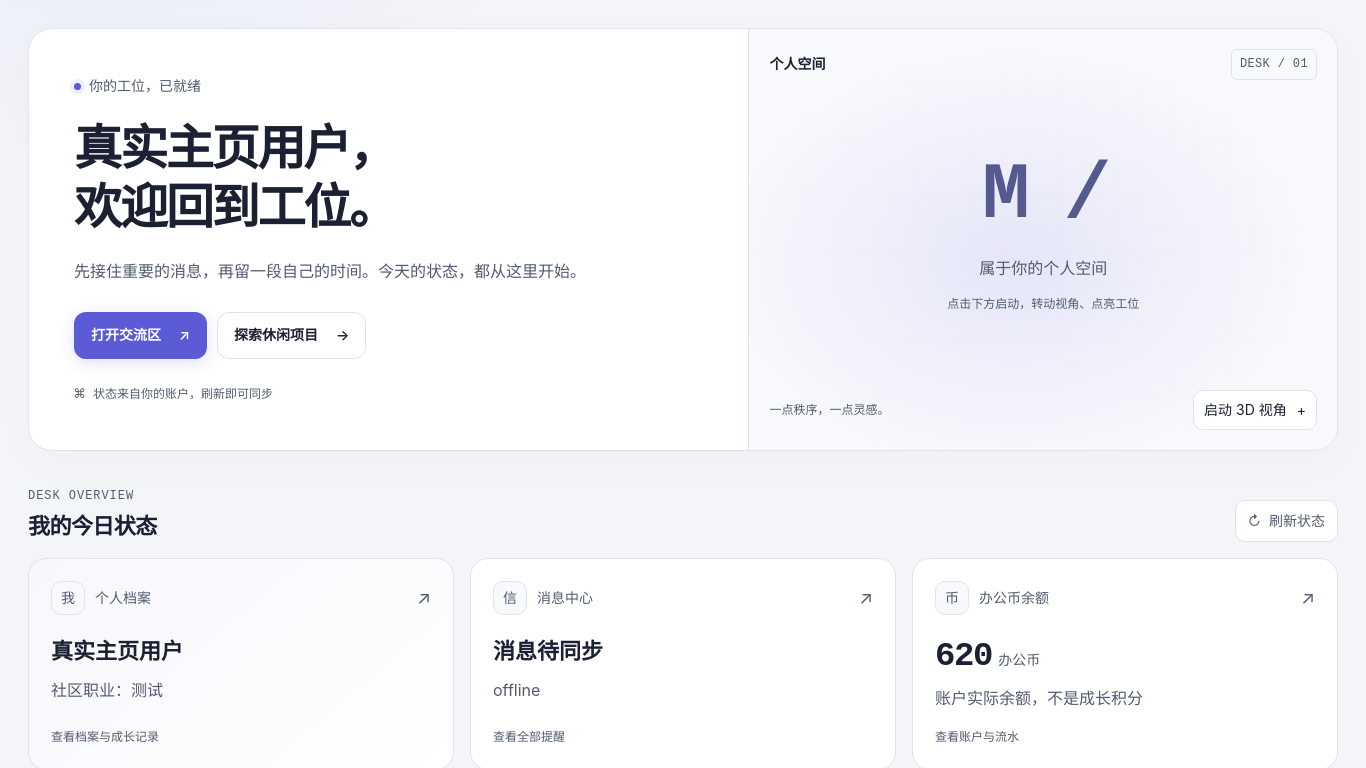
it: CommunityHomePage workspace › keeps a failed summary explicit and allows a verified refresh
Expected: the text "offline" is shown, [493,680,540,700]
Expected: the text "消息待同步" is shown, [493,638,603,664]
Click the button "↻ 刷新状态" at (1286, 521), box [1235,500,1338,542]
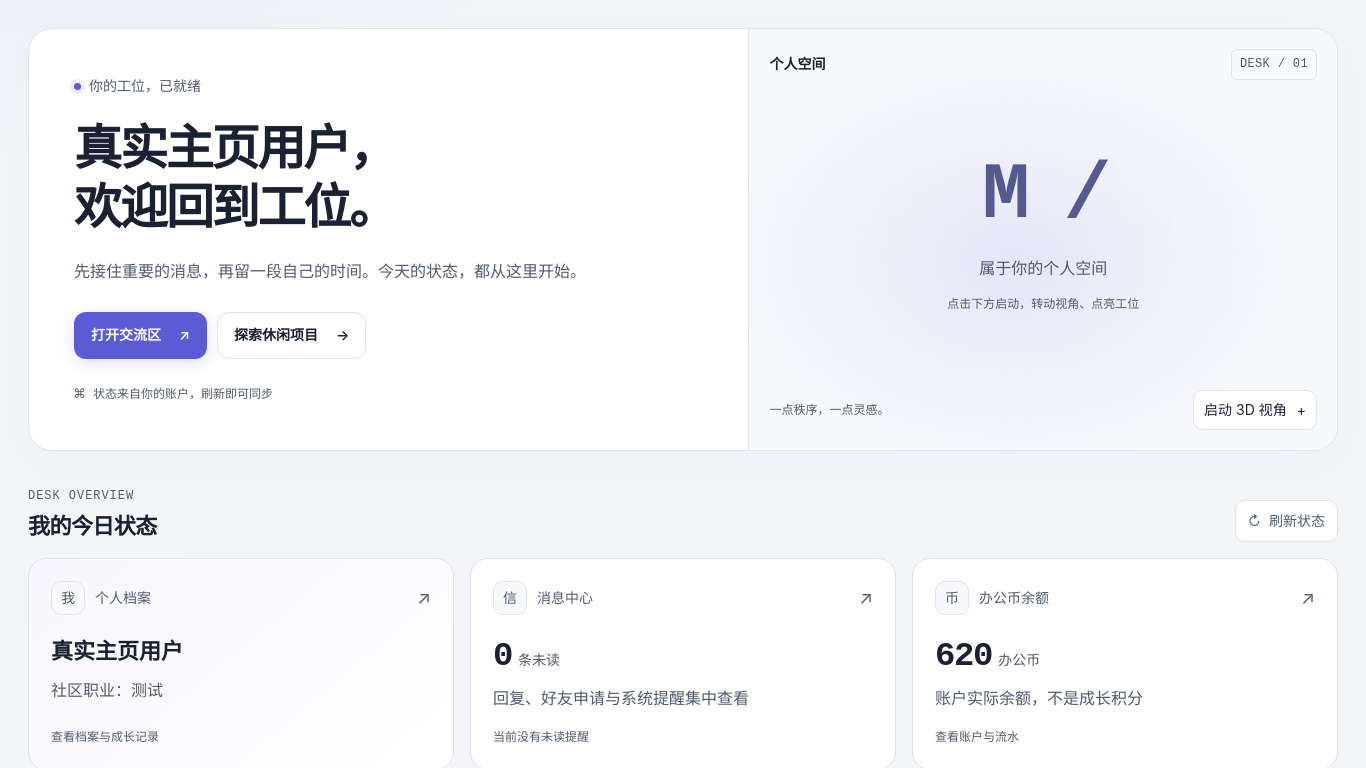
Expected: the text "当前没有未读提醒" is shown, [493,729,589,744]
